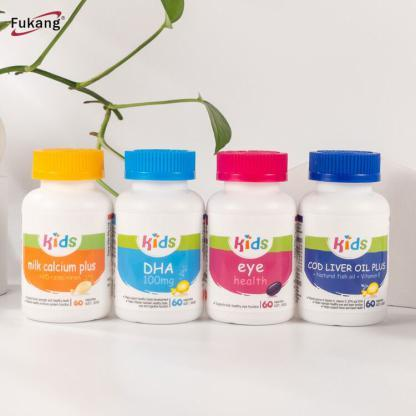jar: (298, 150, 390, 326), (205, 151, 297, 325), (21, 148, 113, 322), (115, 150, 204, 323)
